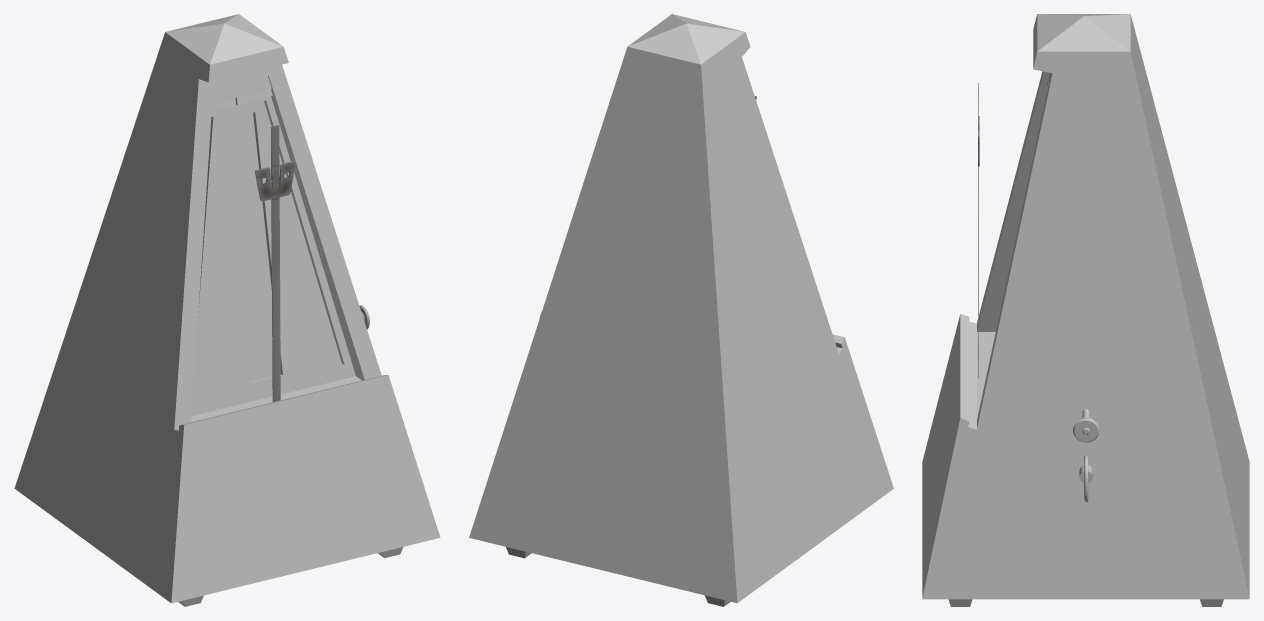
File: Metronome.fbx
The picture shows the model from 3 angles, left to right: view 1: azimuth 30°, elevation 25°; view 2: azimuth 150°, elevation 25°; view 3: azimuth 270°, elevation 25°; orthographic projection. The views are drawn at different scales.
Visible parts, largest first — view 1: Métronome, Markings, Tige; view 2: Métronome; view 3: Métronome.
Part boxes in pixels (box(x1,y1,x2,y2)): Métronome: box(14, 14, 440, 606); Markings: box(225, 113, 272, 379); Tige: box(254, 125, 295, 401); Métronome: box(469, 14, 893, 606); Métronome: box(922, 14, 1249, 606).
Size of the model in its own units: 2.61 by 4.5 by 2.5.
